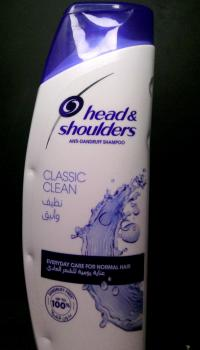dent_unacceptable: (38, 329, 55, 348), (146, 75, 155, 100), (24, 250, 38, 265), (144, 128, 152, 154), (26, 166, 40, 180)
